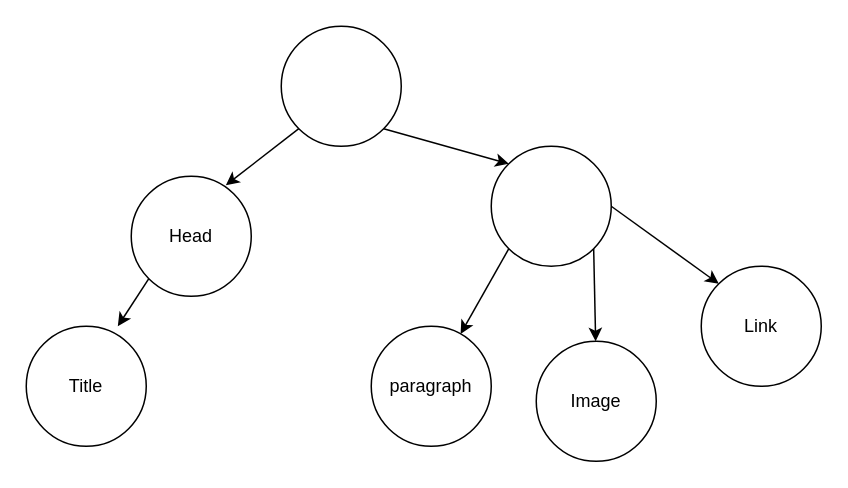
The diagram is 848 pixels wide and 488 high, and some of its shapes have lost their labels. Each missing label, with the box of its shape:
Body: (490, 145, 611, 266)
html: (280, 25, 401, 146)
